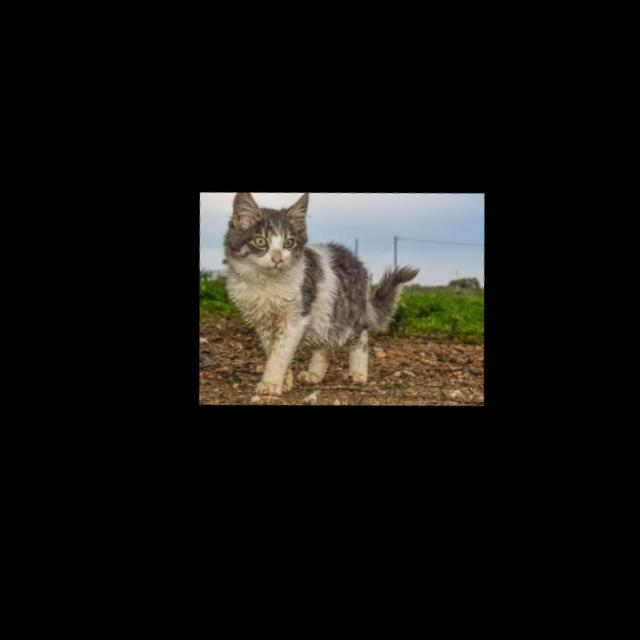animals: (193, 183, 436, 416)
